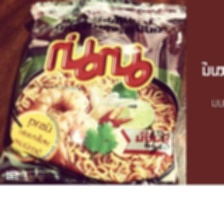snack: (0, 0, 195, 183)
